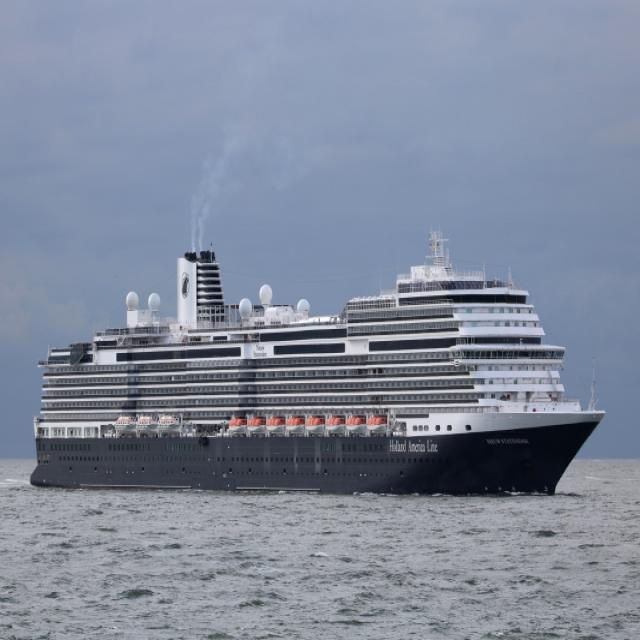cruises: (26, 217, 621, 502)
